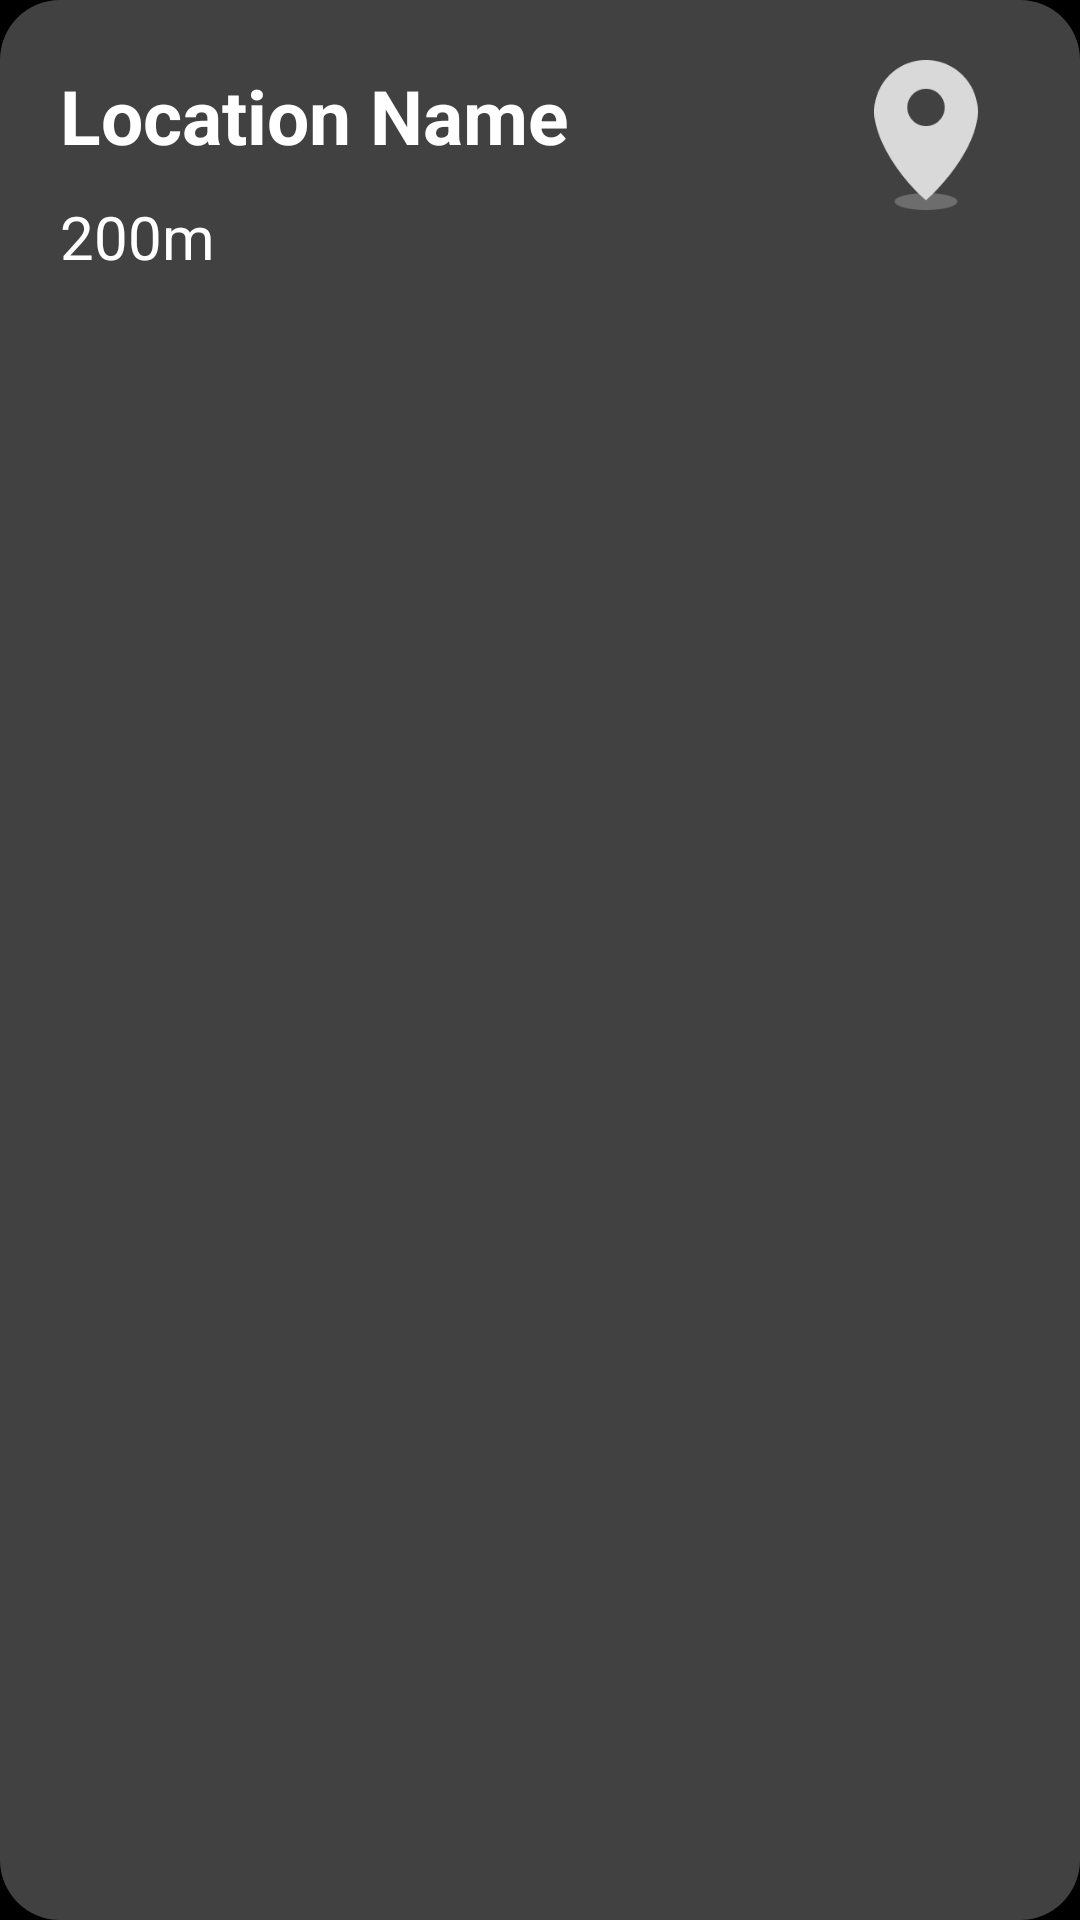

Icon bounding boxes for this 1080x1920 phone screenshot, format (x1, y1, x2, y2):
location: (874, 60, 978, 210)
